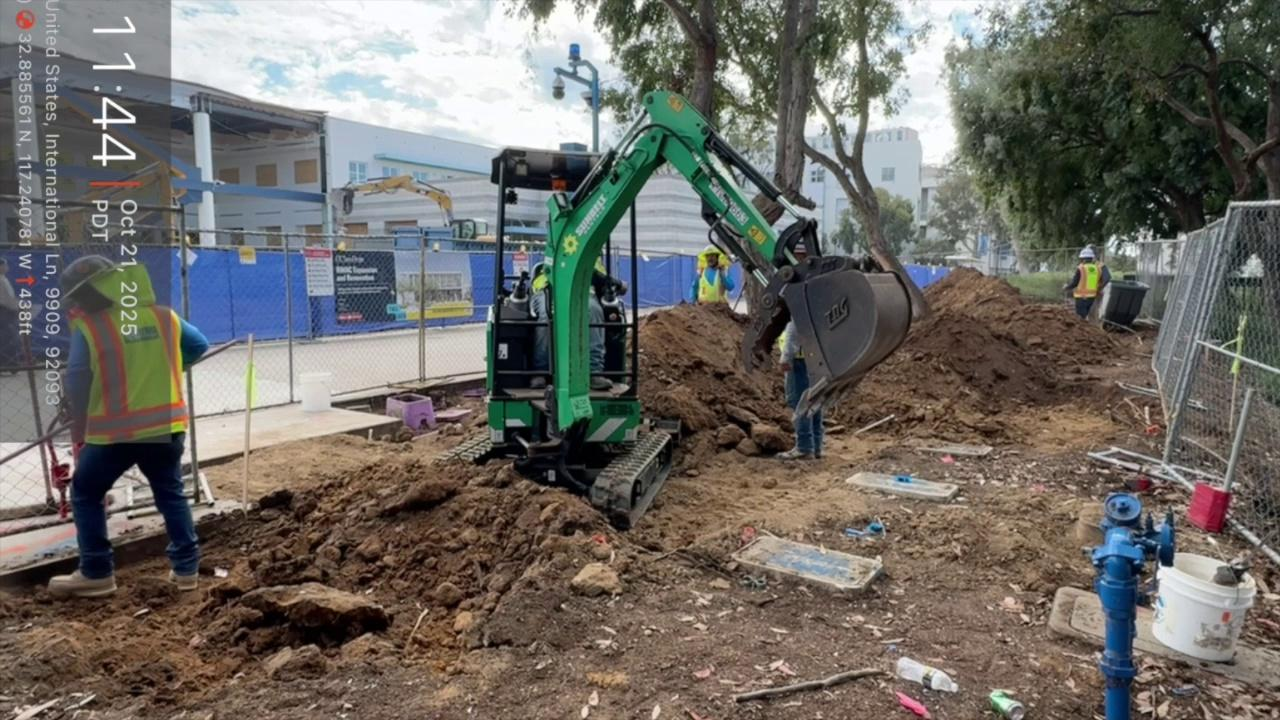Exacavator: (472, 86, 930, 529)
